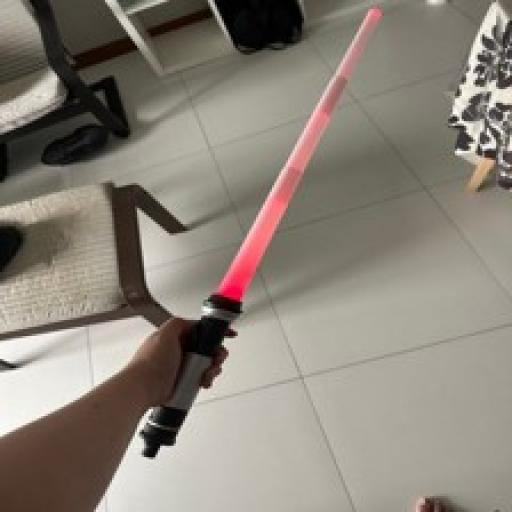lightsaber: (140, 6, 380, 460)
